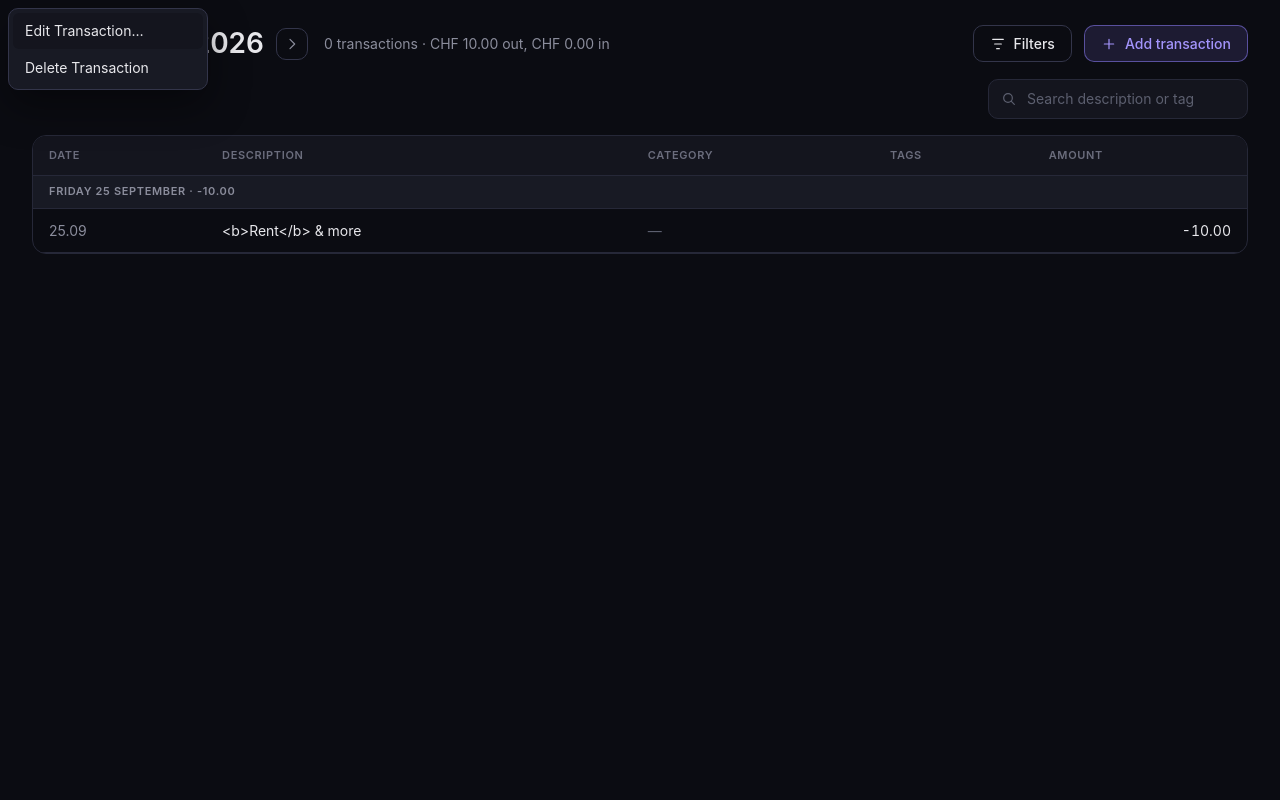
TransactionsPage translations › the delete confirmation shows a description containing markup as plain text
Click the menu item "Delete Transaction": (108, 67) [13, 50, 203, 85]
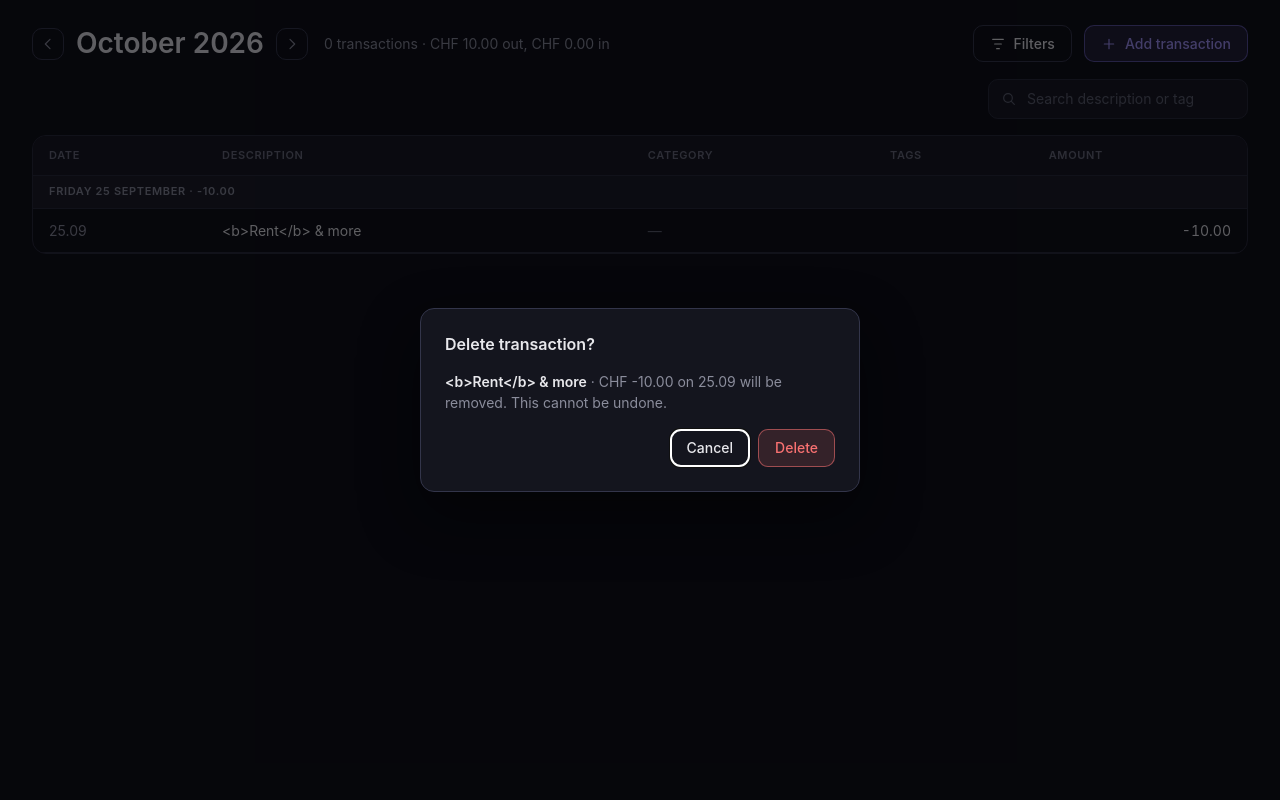
expect the dialog shows "CHF -10.00 on 25.09 will be removed. This cannot be undone.": met, box [445, 373, 782, 411]
